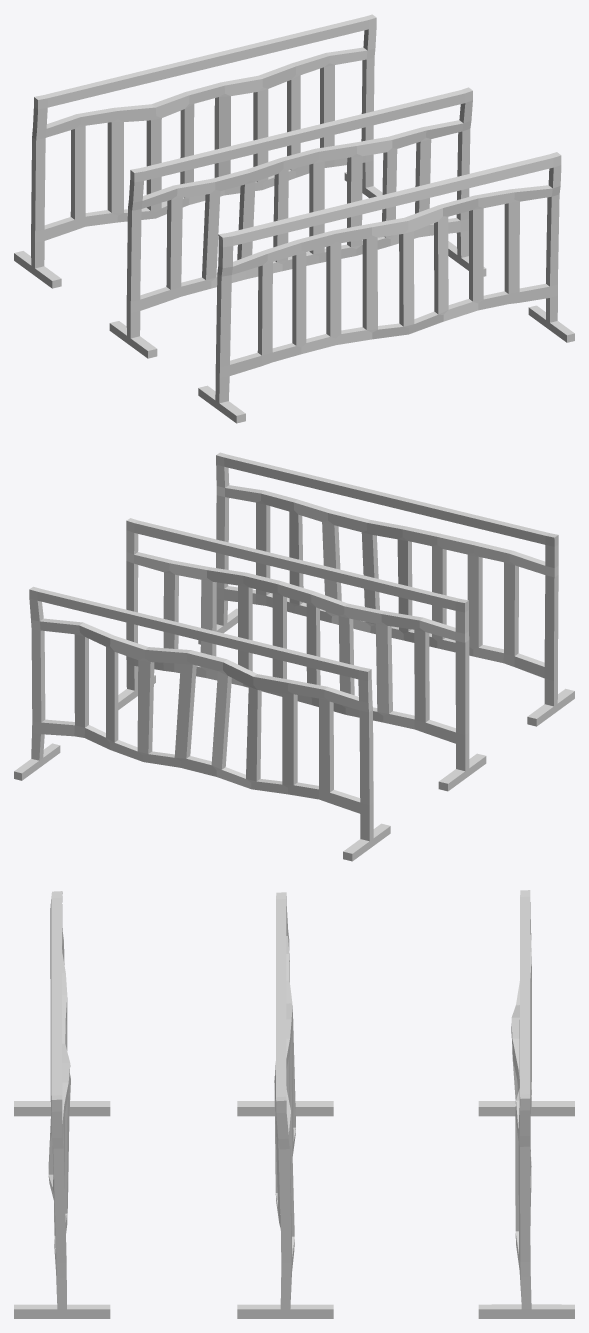
The model's file is pembatas jalan pagar besi.fbx.
3 renders of one model, top to bottom at view 1: azimuth 30°, elevation 25°; view 2: azimuth 150°, elevation 25°; view 3: azimuth 270°, elevation 25°, orthographic. The views are drawn at different scales.
Parts seen in each view (by area): view 1: Plane, Plane.002, Plane.001; view 2: Plane.002, Plane, Plane.001; view 3: Plane, Plane.001, Plane.002.
Part boxes in pixels (bbox=[...]): Plane: bbox=[198, 152, 574, 423]; Plane.002: bbox=[14, 14, 382, 288]; Plane.001: bbox=[109, 87, 486, 358]; Plane.002: bbox=[14, 586, 390, 861]; Plane: bbox=[198, 452, 574, 726]; Plane.001: bbox=[118, 518, 486, 791]; Plane: bbox=[14, 891, 110, 1318]; Plane.001: bbox=[237, 892, 333, 1318]; Plane.002: bbox=[478, 890, 574, 1318].
Size of the model in its own units: 390 by 192 by 441.
